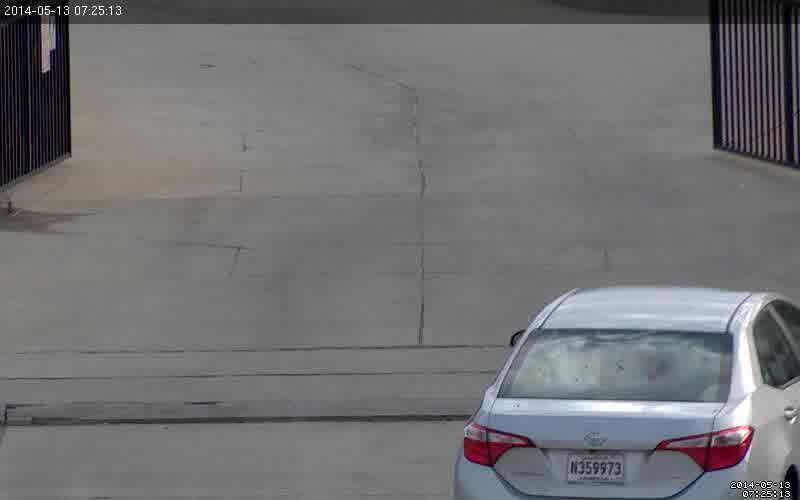placa de veiculo: (559, 444, 645, 499)
